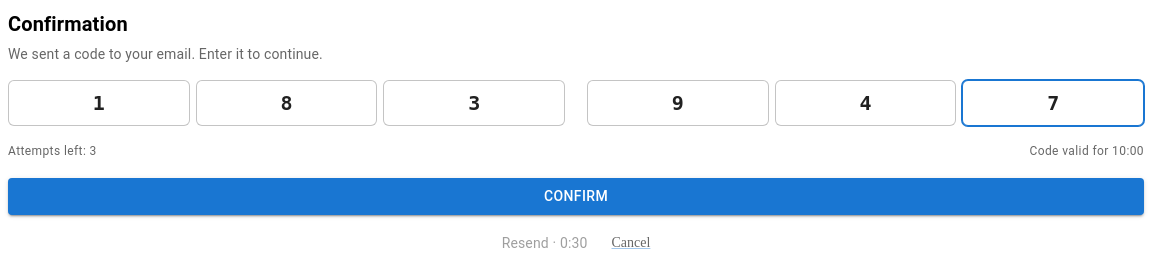
Test case: ConfirmOperationNode: the terminal action is refused › the code field and resend go away, «retry» stays
Click the button "Confirm" at (576, 196), box 8,178 -> 1144,214
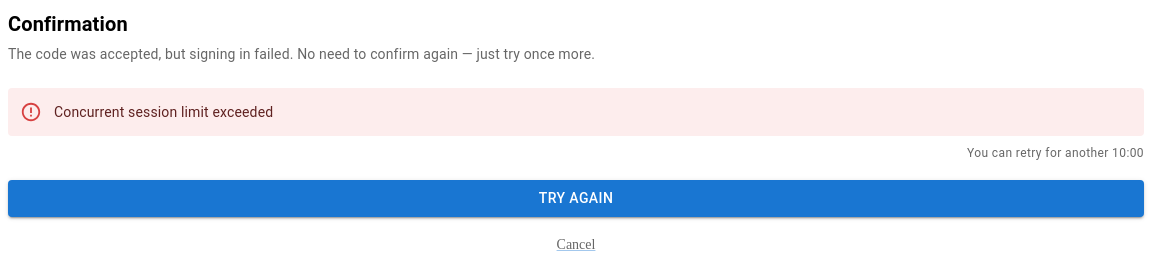
Check: the text "Concurrent session limit exceeded" is shown, box 54,104 -> 273,120
Check: the text "Resend" is gone
Check: the text "The code was accepted, but signing in failed. No need to confirm again — just try once more." is shown, box 8,46 -> 595,62
